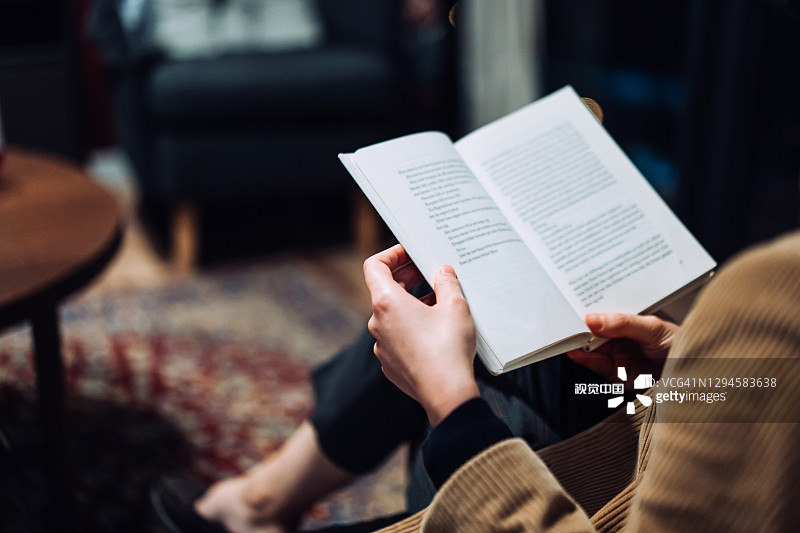no-phone: (346, 227, 498, 415)
